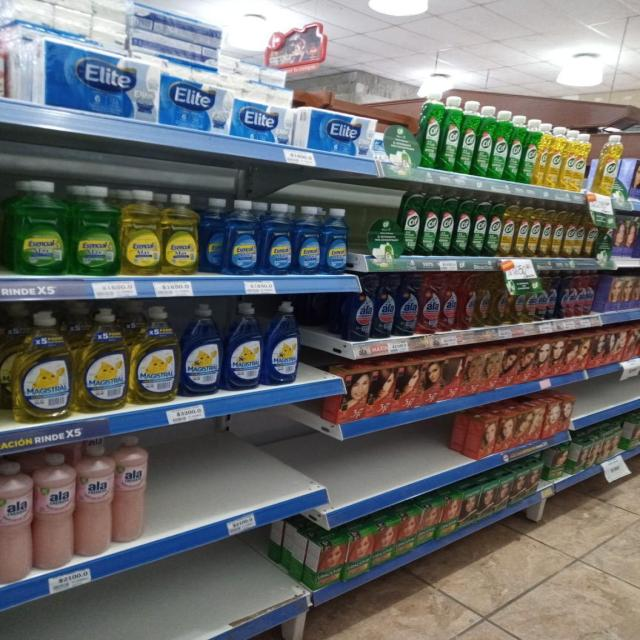ala_conc_amarillo: (491, 274, 508, 326), (476, 272, 491, 328), (509, 276, 525, 325), (525, 276, 538, 323), (536, 275, 548, 322)
ala_conc_azul: (345, 284, 373, 341), (374, 274, 396, 339), (396, 273, 418, 336), (547, 272, 558, 320), (558, 270, 568, 319)
ala_conc_rojo: (420, 272, 440, 334), (441, 272, 458, 332), (459, 272, 476, 330), (577, 270, 594, 316), (562, 270, 576, 318)
ala_crem_rosado: (34, 449, 74, 571), (75, 440, 112, 558), (0, 459, 32, 585), (113, 434, 147, 544)
cif_conc_bot_amarilla: (563, 130, 587, 192), (547, 125, 563, 189), (501, 202, 515, 257), (514, 205, 528, 257), (538, 122, 548, 186), (528, 206, 540, 257), (540, 207, 552, 257), (564, 209, 576, 258), (572, 210, 584, 258), (552, 208, 563, 258), (584, 213, 596, 258)
cif_conc_botella_verde: (421, 94, 441, 169), (441, 94, 460, 172), (460, 99, 477, 175), (401, 188, 420, 256), (421, 190, 438, 256), (477, 104, 492, 178), (493, 108, 508, 180), (455, 194, 471, 257), (523, 118, 538, 184), (439, 192, 454, 256), (508, 114, 522, 182), (472, 198, 487, 258), (487, 200, 501, 256)
esencial: (10, 180, 68, 276), (72, 184, 118, 276), (120, 188, 162, 276), (162, 193, 198, 275), (225, 199, 259, 276), (260, 202, 293, 276), (199, 197, 225, 275)
magistral_con_amarillo: (11, 310, 72, 422), (75, 307, 128, 413), (130, 304, 178, 404)
magistral_con_azul: (182, 303, 222, 397), (225, 301, 262, 391), (264, 301, 300, 386), (295, 205, 322, 276), (324, 207, 348, 275)
